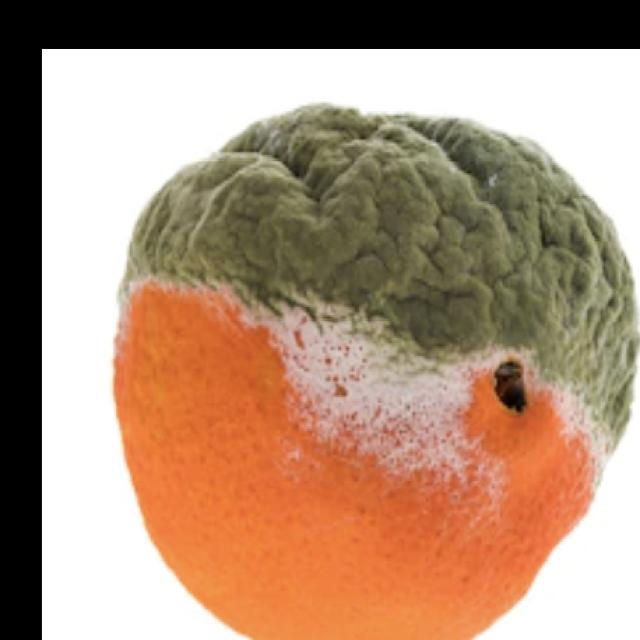sangat_busuk: (118, 107, 638, 638)
